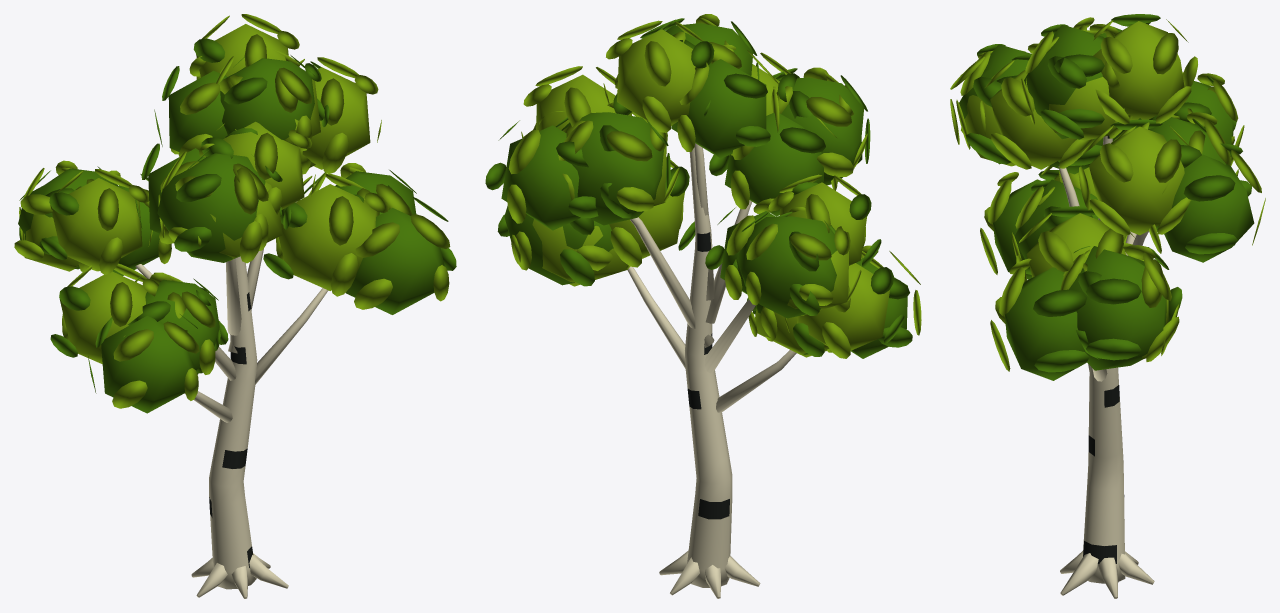
Rendered from tree-birch.glb.
3 renders of one model, left to right at view 1: azimuth 30°, elevation 25°; view 2: azimuth 150°, elevation 25°; view 3: azimuth 270°, elevation 25°, orthographic. The views are drawn at different scales.
Parts seen in each view (by area): view 1: tree-birch-canopy, tree-birch-bark; view 2: tree-birch-canopy, tree-birch-bark; view 3: tree-birch-canopy, tree-birch-bark.
Boxes of the visible parts, box(x1,y1,x2,y2) form: tree-birch-canopy: box(14, 14, 456, 413); tree-birch-bark: box(135, 248, 328, 598); tree-birch-canopy: box(485, 14, 921, 358); tree-birch-bark: box(627, 143, 796, 598); tree-birch-canopy: box(950, 14, 1265, 380); tree-birch-bark: box(1058, 135, 1154, 598).
Bounding box in the file's own units: 5.32 × 7.45 × 3.73.
